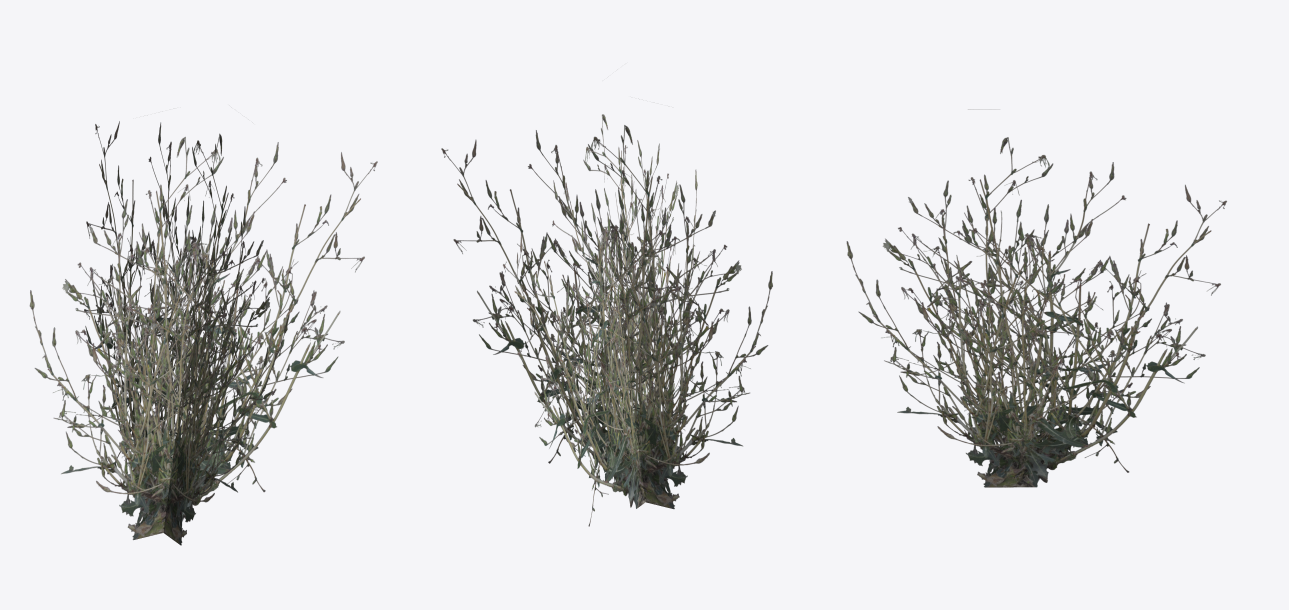
File: heather_fescue_c.glb
3 views of the same model, side by side, from view 1: azimuth 30°, elevation 25°; view 2: azimuth 150°, elevation 25°; view 3: azimuth 270°, elevation 25° (orthographic). The views are drawn at different scales.
Visible parts, largest first — view 1: Grass 8; view 2: Grass 8; view 3: Grass 8.
Part boxes in pixels (left/top/right/bottom): Grass 8: left=29, top=121, right=377, bottom=545; Grass 8: left=441, top=114, right=772, bottom=526; Grass 8: left=846, top=109, right=1226, bottom=487.
Size of the model in its own units: 1.4 by 1.48 by 1.52.
Materials: 1 (1 with a texture image).
